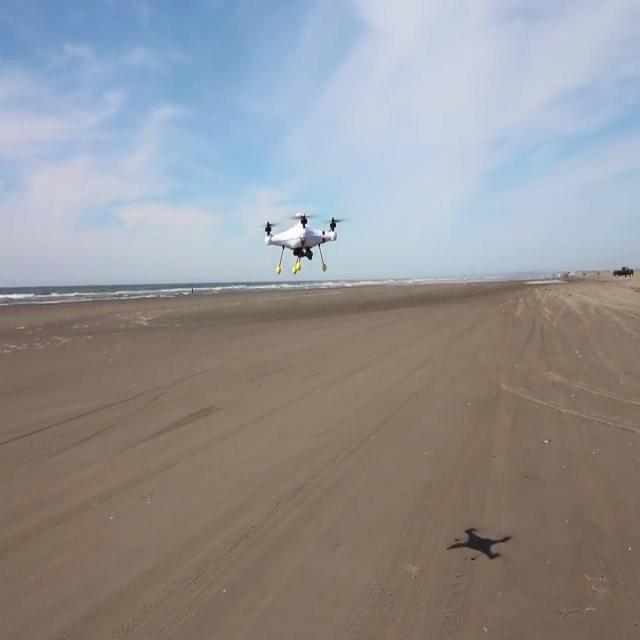UAV: (261, 212, 344, 274)
